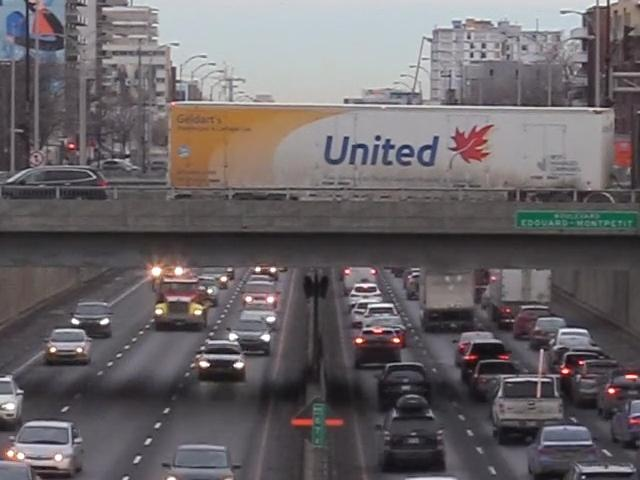car: (373, 397, 453, 470), (12, 419, 84, 478), (525, 427, 600, 480), (164, 440, 241, 480), (375, 361, 434, 413), (569, 359, 628, 411), (466, 357, 521, 405), (353, 323, 407, 366), (195, 338, 248, 381), (43, 325, 92, 370), (597, 372, 640, 420), (74, 293, 117, 339), (229, 315, 274, 352), (557, 460, 640, 480), (549, 327, 595, 363), (610, 396, 640, 448), (530, 316, 572, 352), (510, 307, 553, 341), (0, 369, 25, 427), (463, 339, 512, 368), (454, 330, 498, 360), (241, 282, 281, 310), (349, 301, 381, 329), (196, 270, 230, 296), (249, 263, 284, 281)
pickup-truck: (493, 377, 562, 435)
truck: (152, 281, 209, 330)
